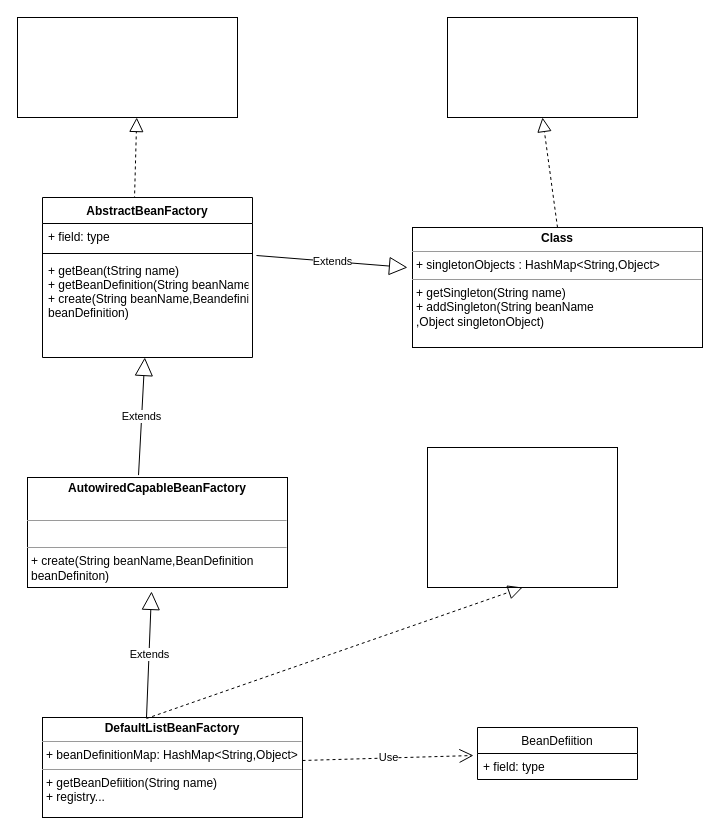
Some shapes in this 720 by 835 pixel diagram are drawn without their labels. The centre of each missing label's shape, as x and y in pixels:
"<<Interface>> Bean + registry(String beanName, BeanDefinition beanDefinition)" belongs at (x=522, y=517).
"<<Interface>> BeanFactory getBean(String name)" belongs at (x=127, y=67).
"<<Interface>> SingletonRegistry + getSingleton(String name):" belongs at (x=542, y=67).
